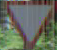Give way: (2, 0, 54, 49)
